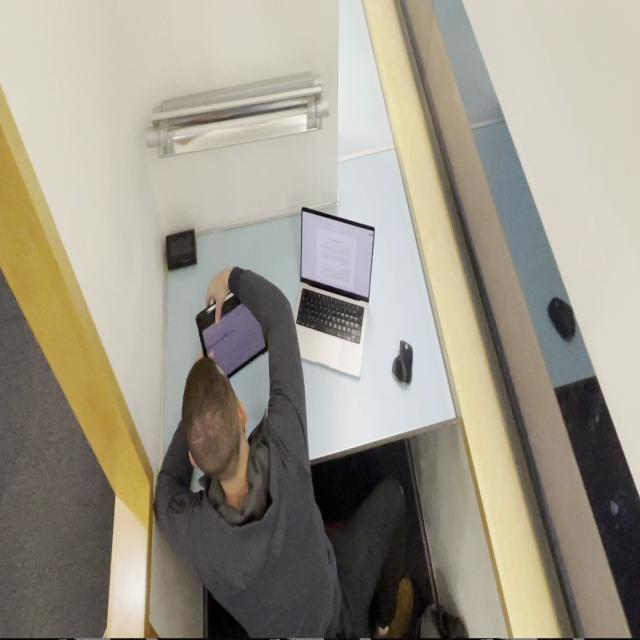bag: (195, 275, 266, 396)
ipad: (149, 252, 335, 640)
laptop: (293, 205, 375, 378)
mouse: (388, 334, 420, 390)
